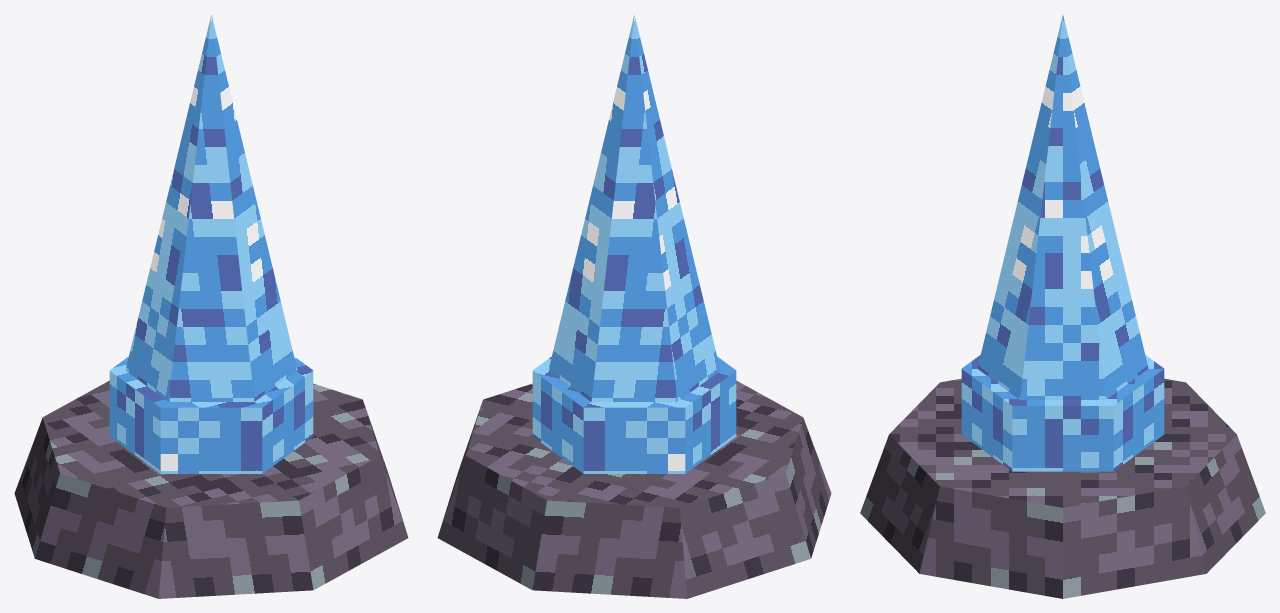
Rendered from r02_cristal_teletransporte.glb.
3 views of the same model, side by side, from view 1: azimuth 30°, elevation 25°; view 2: azimuth 150°, elevation 25°; view 3: azimuth 270°, elevation 25° (orthographic).
Parts seen in each view (by area): view 1: r02_cristal_teletransporte; view 2: r02_cristal_teletransporte; view 3: r02_cristal_teletransporte.
Boxes of the visible parts, bbox=[...] form: r02_cristal_teletransporte: bbox=[14, 14, 408, 598]; r02_cristal_teletransporte: bbox=[437, 14, 831, 598]; r02_cristal_teletransporte: bbox=[860, 15, 1265, 598].
Bounding box in the file's own units: 1.4 × 1.9 × 1.4.
2 materials, 2 textured.
